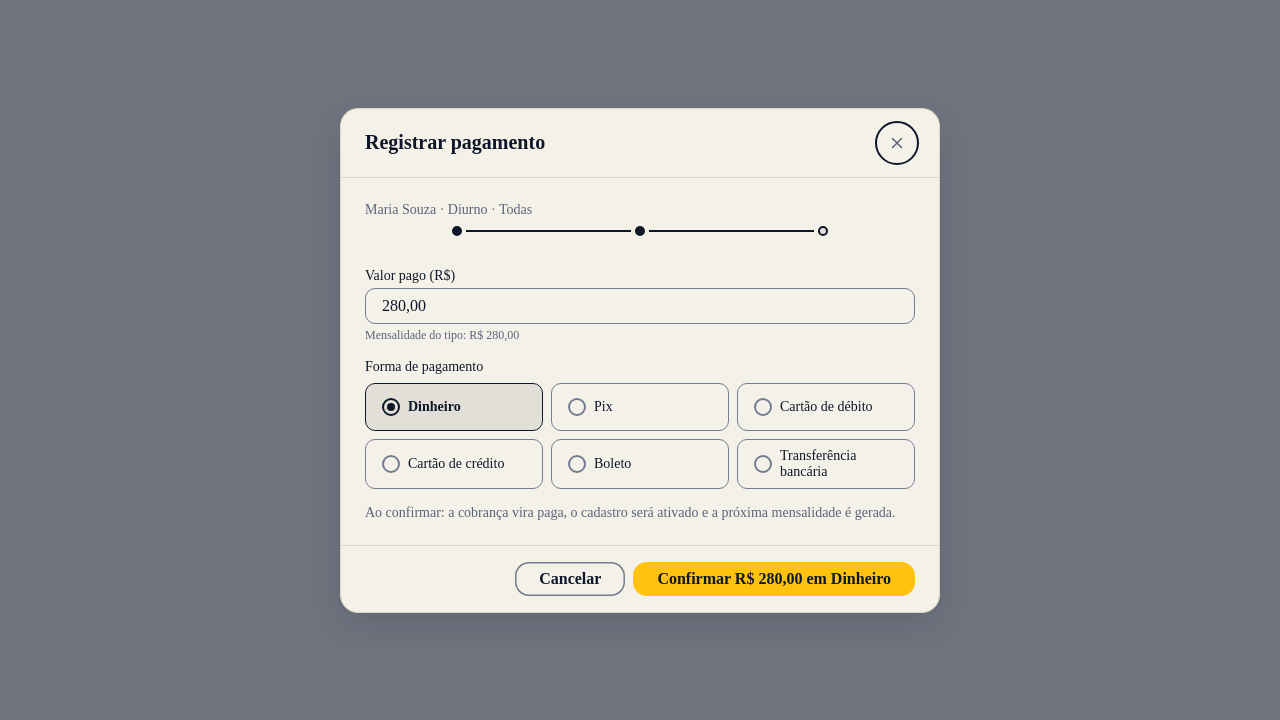
Test: comprovante do pagamento › troca o formulário pelo comprovante, com foco, valor, forma e próxima cobrança
Click the button "Confirmar R$ 280,00 em Dinheiro" at (774, 578), box x1=633 y1=562 x2=915 y2=596
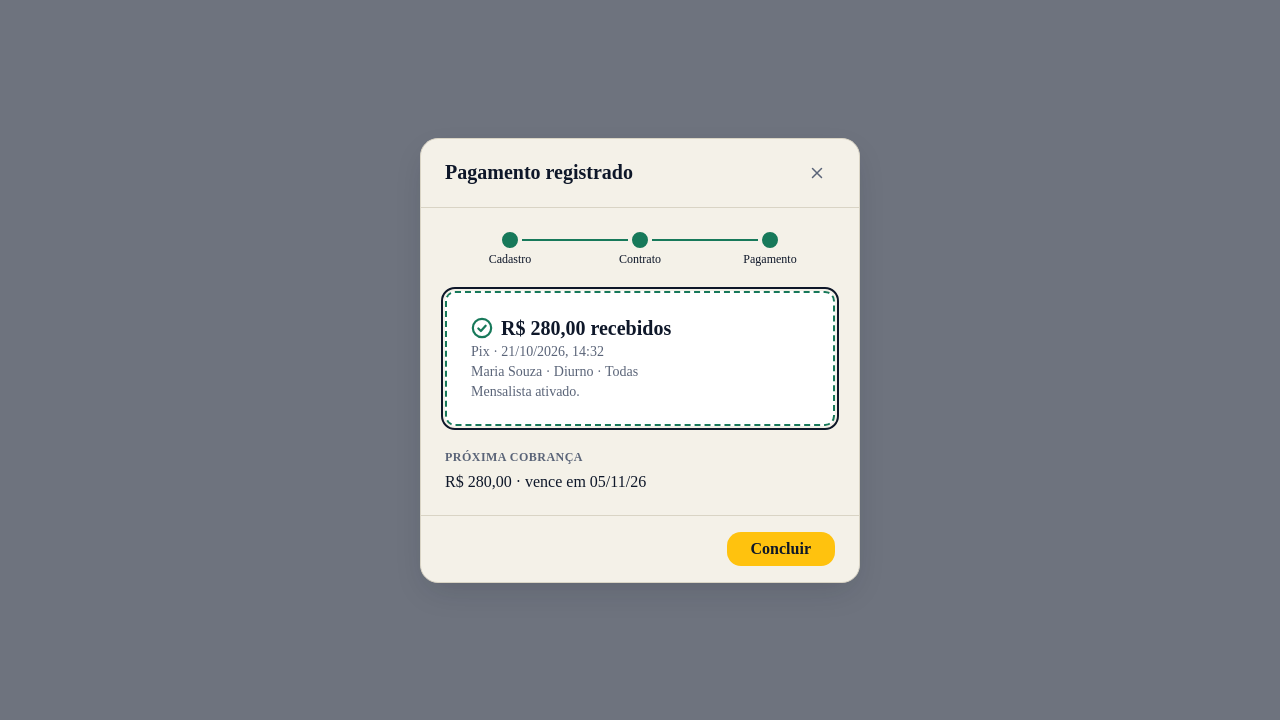
Expected: the dialog "Pagamento registrado" is shown, x1=420 y1=138 x2=860 y2=582
Expected: the message shows "R$ 280,00 recebidos", x1=501 y1=316 x2=671 y2=338
Expected: the message shows "Pix", x1=471 y1=344 x2=604 y2=358
